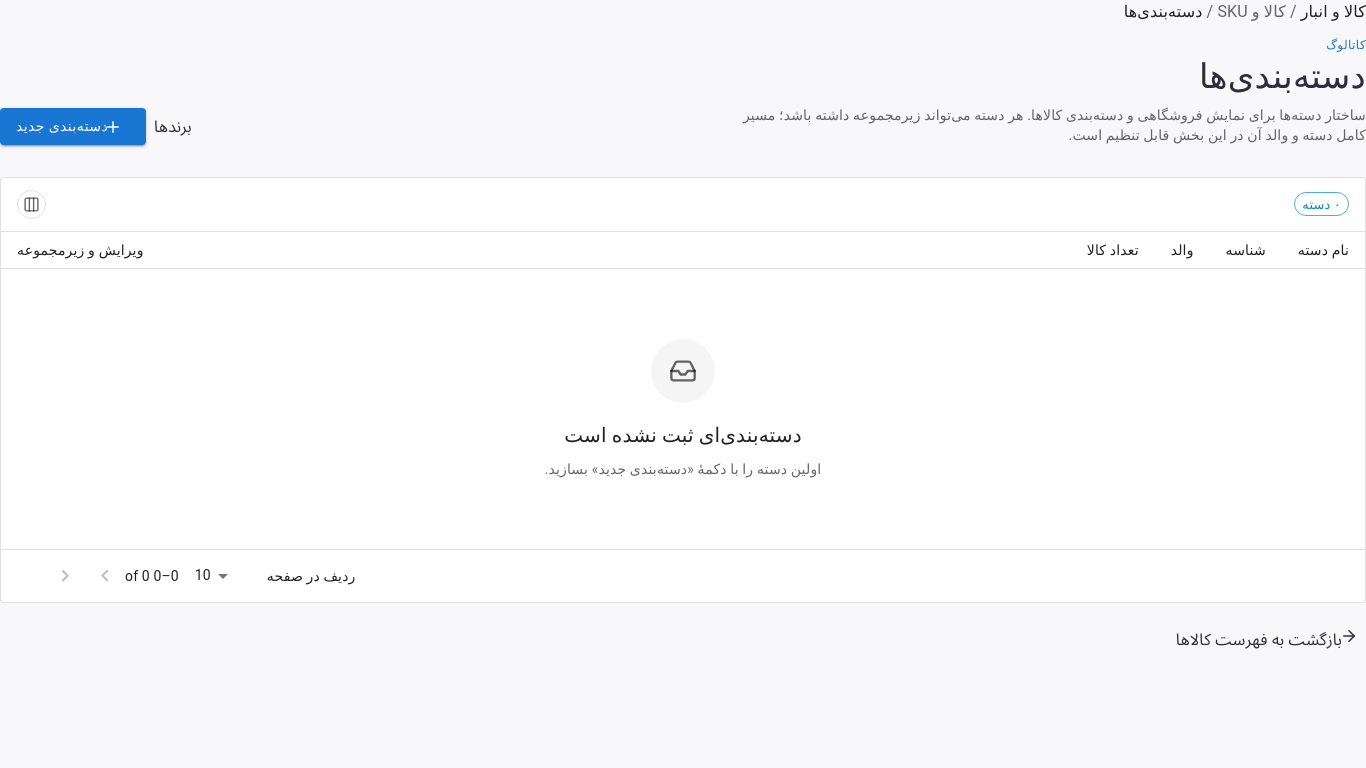
CategoriesView › opens the create dialog from the page header
Check: the heading "دسته‌بندی‌ای ثبت نشده است" is shown, box [564,419,802,451]
What coordinates should you click on to do the following:
click the button "دسته‌بندی جدید"
I would click on:
 (73, 127)
Its box is [0,108,146,145].
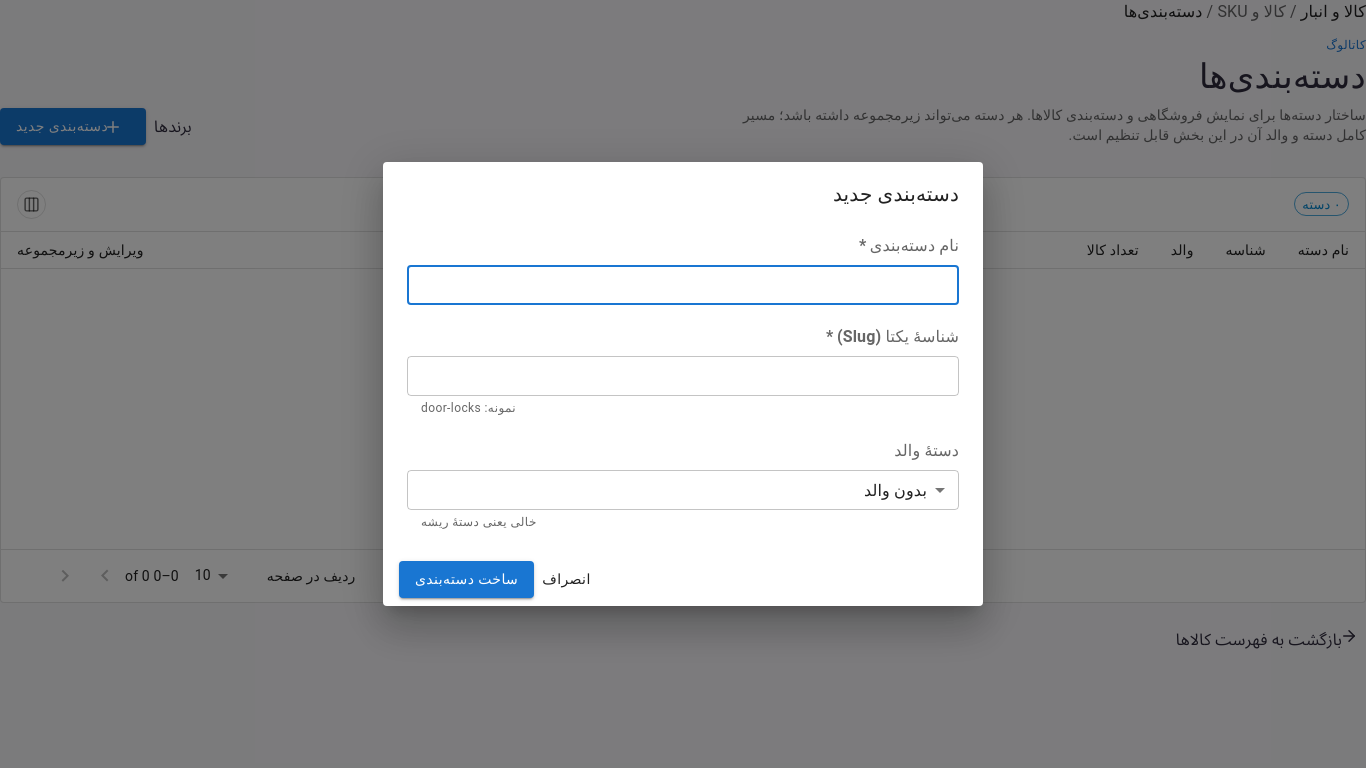
Check: the dialog "دسته‌بندی جدید" is shown, box [383,162,983,606]
